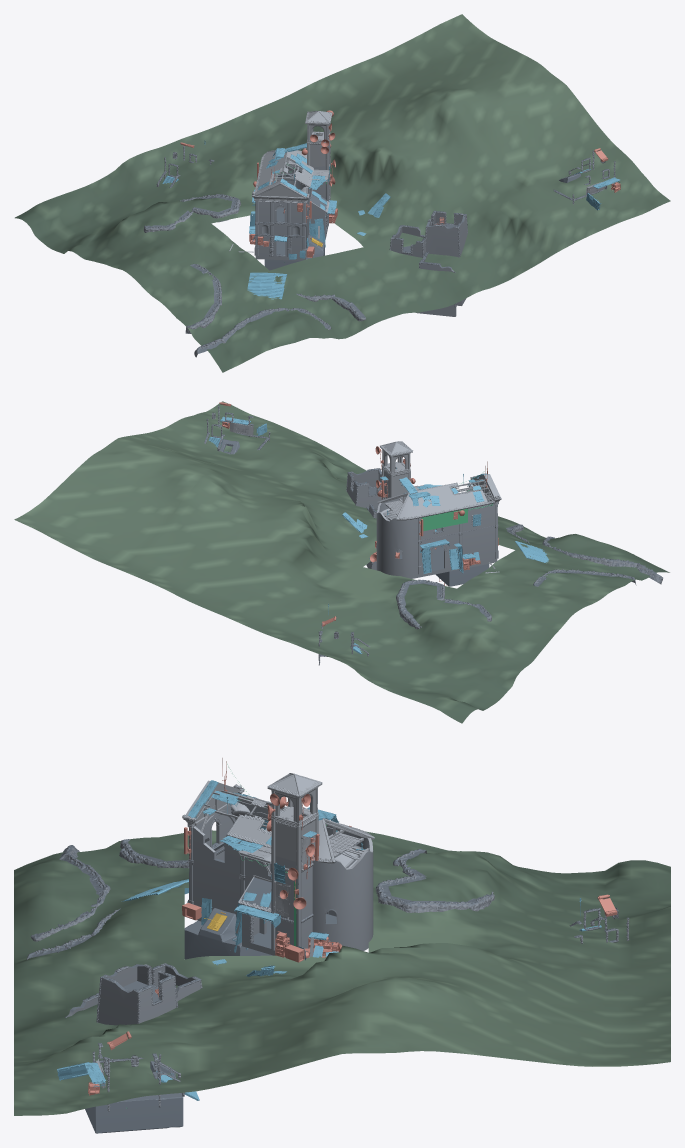
The model's file is refuge.glb.
The picture shows the model from 3 angles, top to bottom: view 1: azimuth 30°, elevation 25°; view 2: azimuth 150°, elevation 25°; view 3: azimuth 270°, elevation 25°; orthographic projection. The views are drawn at different scales.
Visible parts, largest first — view 1: terrain, shell_walls, roof_ceiling, walkways, machinery; view 2: terrain, shell_walls, roof_ceiling, walkways, machinery, cables; view 3: terrain, shell_walls, roof_ceiling, walkways, machinery.
Boxes of the visible parts, x1,y1,x2,y2 form: terrain: (15,14,670,372); shell_walls: (143,145,615,357); roof_ceiling: (229,111,607,252); walkways: (162,134,620,299); machinery: (180,110,620,257); terrain: (14,401,669,723); shell_walls: (204,405,663,665); roof_ceiling: (229,422,501,573); walkways: (209,416,548,653); machinery: (219,402,498,626); cables: (420,471,492,531); terrain: (14,830,670,1115); shell_walls: (26,800,629,1133); roof_ceiling: (95,773,374,1088); walkways: (57,780,601,1100); machinery: (88,758,617,1095).
Size of the model in its own units: 126 by 44.08 by 100.
